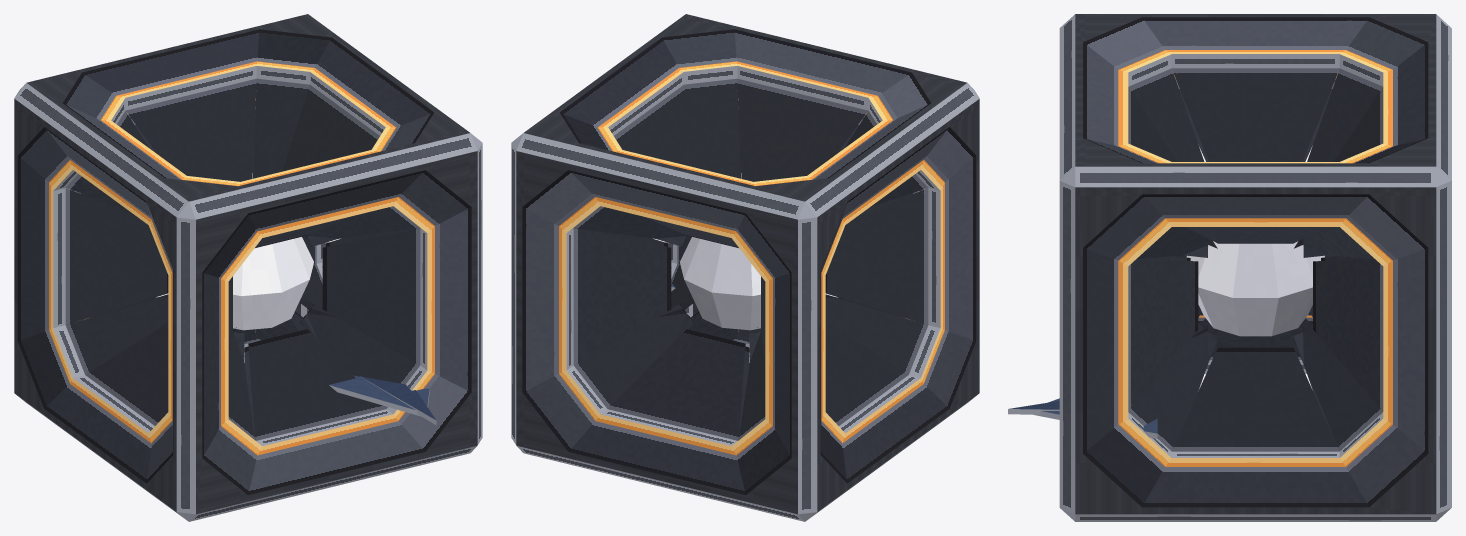
File: marlit_shield.glb
3 renders of one model, left to right at view 1: azimuth 30°, elevation 25°; view 2: azimuth 150°, elevation 25°; view 3: azimuth 270°, elevation 25°, orthographic. The views are drawn at different scales.
Visible parts, largest first — view 1: marlit_shield_body, marlit_shield_core, marlit_shield_leaf_flat, marlit_shield_leaf_corner; view 2: marlit_shield_body, marlit_shield_core; view 3: marlit_shield_body, marlit_shield_core.
Part boxes in pixels (x1,y1,x2,y2): marlit_shield_body: (14,14,482,521); marlit_shield_core: (233,237,313,330); marlit_shield_leaf_flat: (329,375,429,416); marlit_shield_leaf_corner: (360,376,436,425); marlit_shield_body: (511,14,979,521); marlit_shield_core: (680,237,760,330); marlit_shield_body: (1059,14,1451,521); marlit_shield_core: (1186,241,1324,336).
Bounding box in the file's own units: 2 × 2 × 2.26.
1 material, 1 textured.
